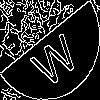W: (25, 25, 82, 90)
